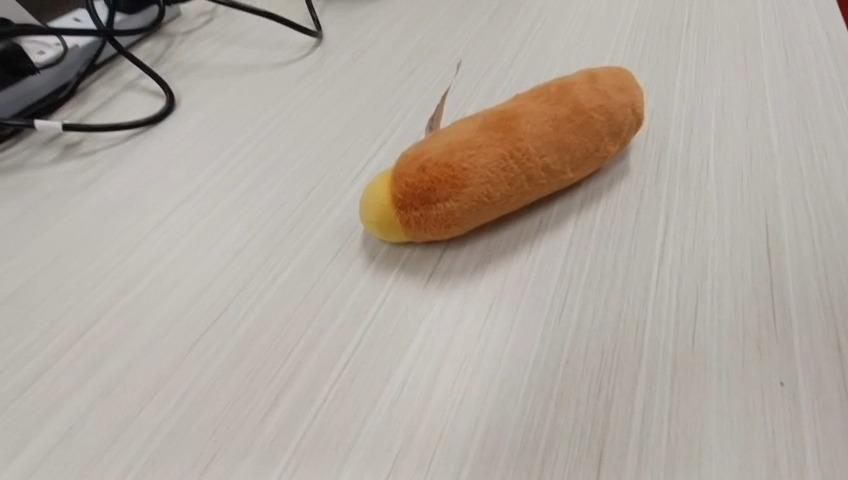hotdog: (358, 61, 645, 244)
